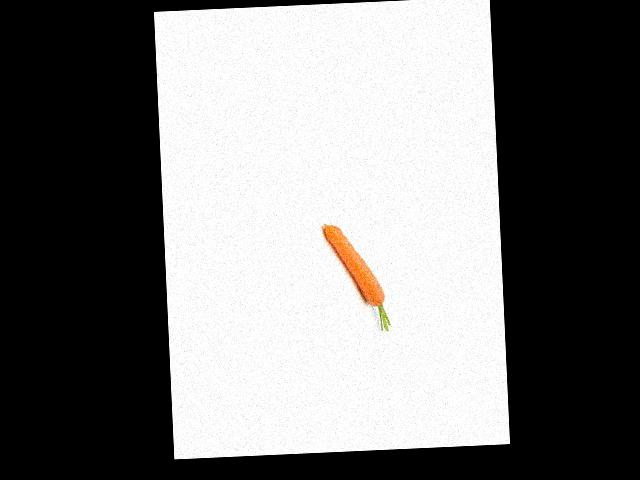carrot: (323, 219, 385, 311)
